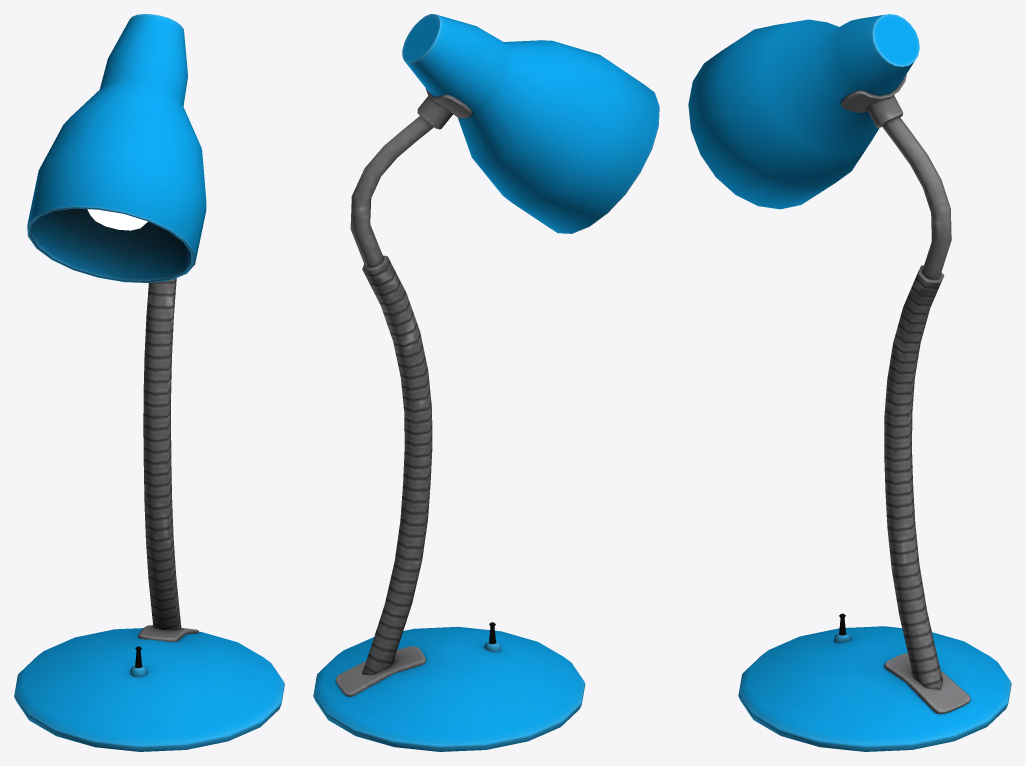
File: lamp.glb
3 renders of one model, left to right at view 1: azimuth 30°, elevation 25°; view 2: azimuth 150°, elevation 25°; view 3: azimuth 270°, elevation 25°, orthographic.
Visible parts, largest first — view 1: OfficeLamp_1_OfficeSmallPropsEmission_0; view 2: OfficeLamp_1_OfficeSmallPropsEmission_0; view 3: OfficeLamp_1_OfficeSmallPropsEmission_0.
Boxes of the visible parts, <box> form: OfficeLamp_1_OfficeSmallPropsEmission_0: <box>14,14,284,751</box>; OfficeLamp_1_OfficeSmallPropsEmission_0: <box>313,14,659,751</box>; OfficeLamp_1_OfficeSmallPropsEmission_0: <box>688,14,1011,751</box>.
Bounding box in the file's own units: 0.3406 × 0.7998 × 0.3432.
1 material, 1 textured.
